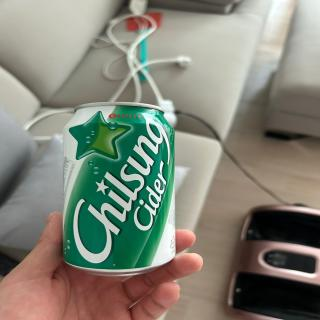cocacola: (58, 99, 178, 277)
